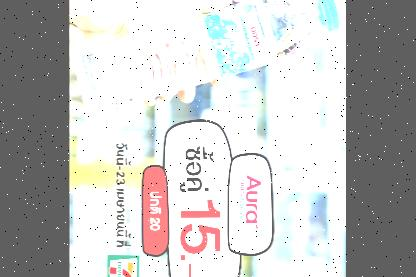Plastic Bottle: (73, 0, 340, 112)
